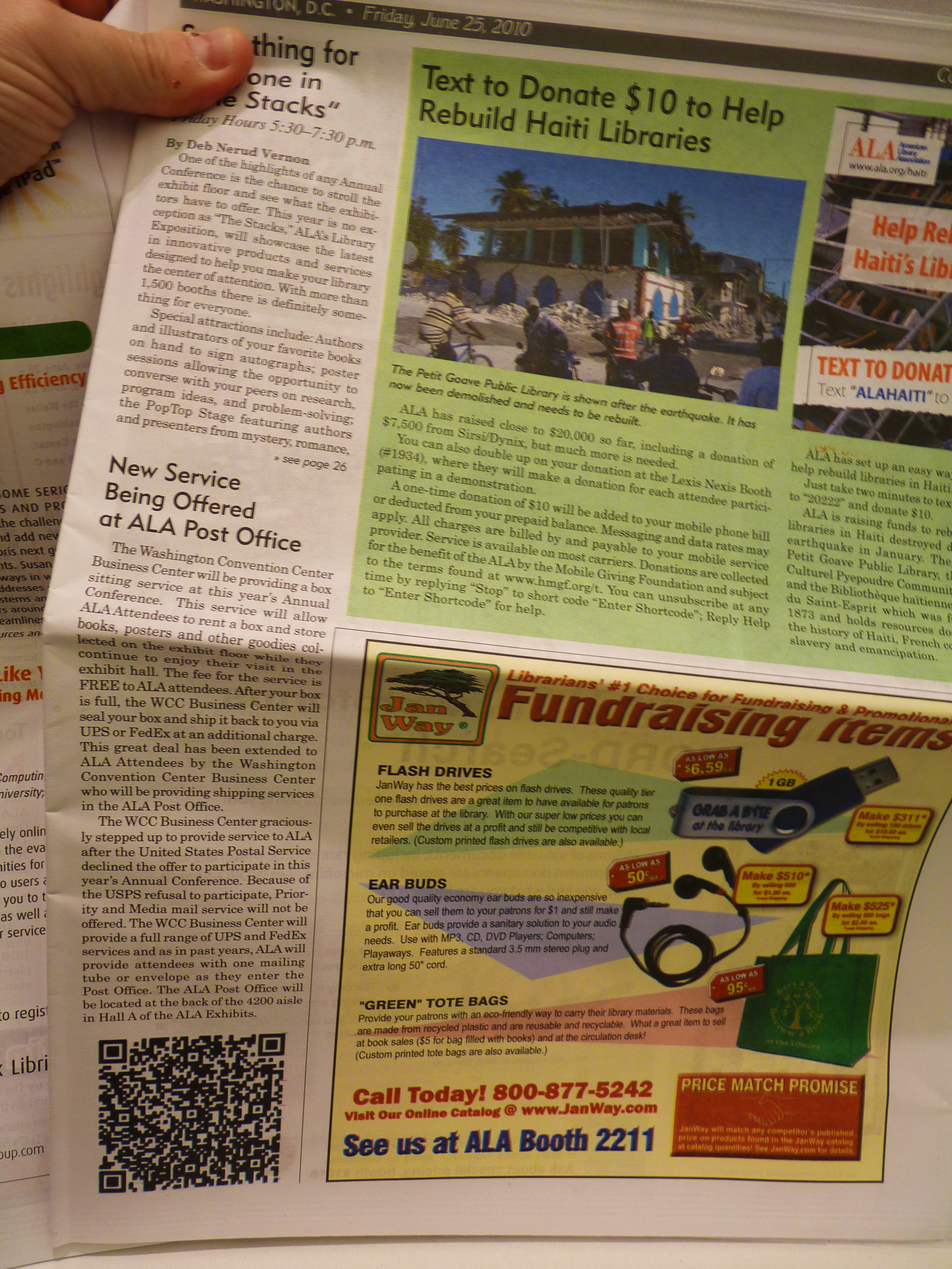QR-CODE: (98, 1033, 285, 1193)
